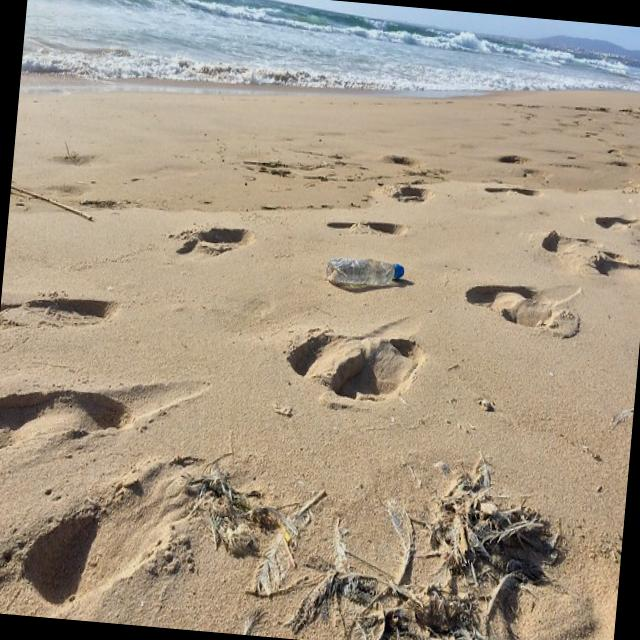Recycle: (324, 256, 405, 290)
